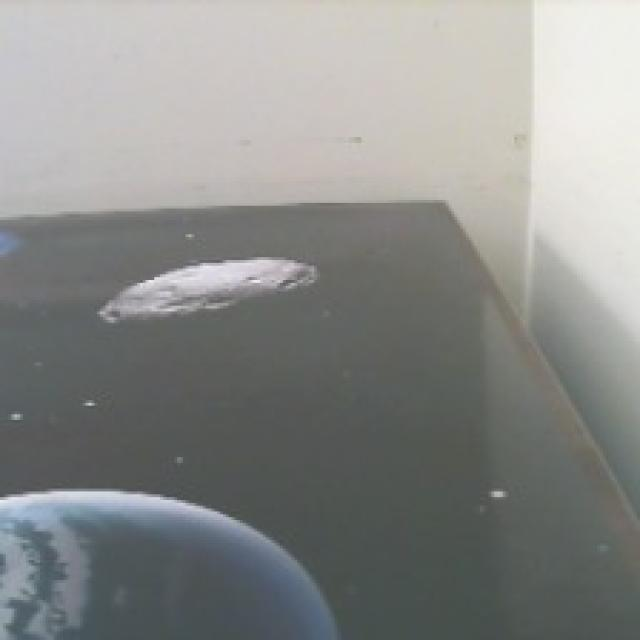Asteroid: (98, 259, 318, 324)
Earth: (0, 487, 343, 640)
